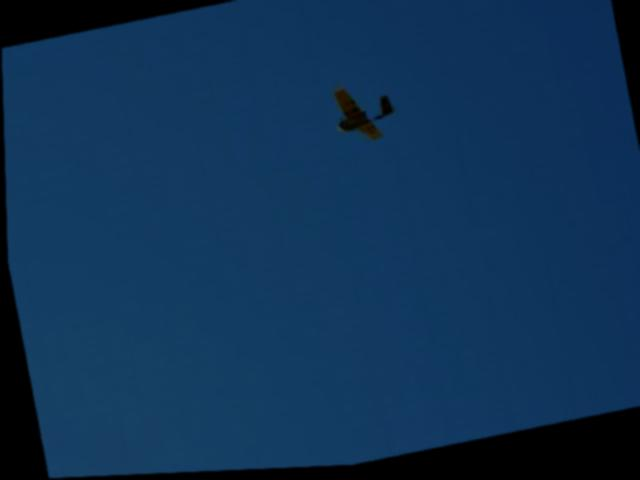iha: (319, 75, 406, 157)
